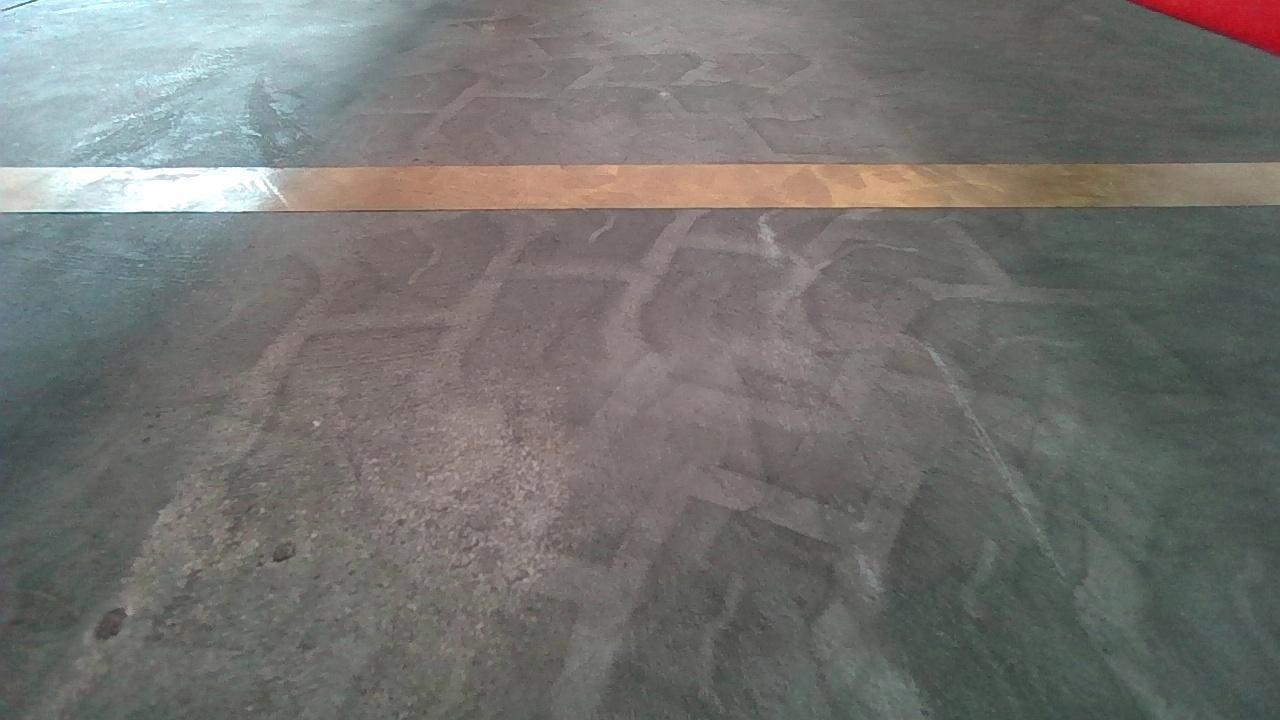yellow_line: (5, 154, 1268, 214)
